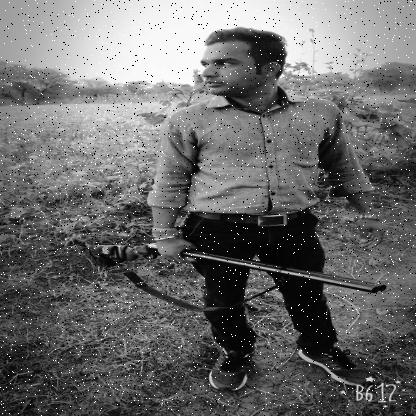rifle: (87, 240, 390, 294)
